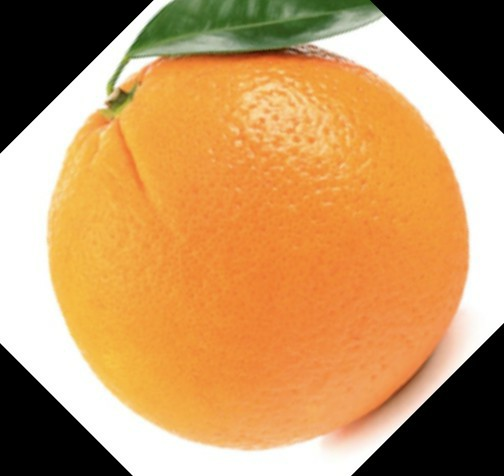fresh_orange: (47, 42, 470, 447)
